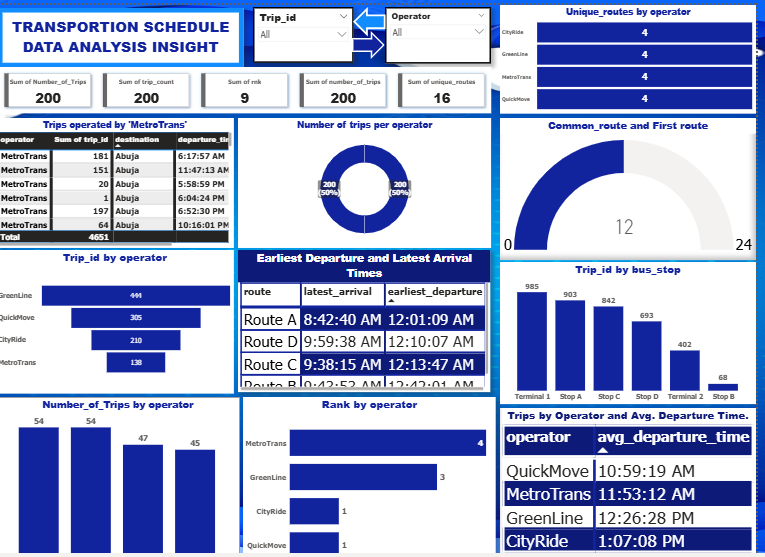

The page's visual inventory and layout, read from the dashboard file:
{"tool":"powerbi","page":{"name":"Page 1","canvas":[2000,1500],"ordinal":0},"visuals":[{"type":"tableEx","title":"Trips operated by ''MetroTrans''","fields":{"Values":["TS 1.operator","Sum(TS 1.trip_id)","TS 1.destination","TS 1.departure_time","TS 1.origin"]},"box":[0,298,626,342],"z":0},{"type":"columnChart","title":" Number_of_Trips by operator","fields":{"Category":["TS 2.operator"],"Y":["Sum(TS 2.Number_of_Trips)"]},"box":[0,1030.9,640.9,469.1],"z":1000},{"type":"gauge","title":" Common_route and First route","fields":{"Y":["Sum(TS 3.common_route)"]},"box":[1325.5,297.3,673.6,373.6],"z":2000},{"type":"funnel","title":" Trip_id by operator","fields":{"Category":["TS 4.operator"],"Y":["Sum(TS 4.trip_id)"]},"box":[0,644,626,378],"z":3000},{"type":"tableEx","title":"Earliest Departure and Latest Arrival Times","fields":{"Values":["TS 5.route","TS 5.latest_arrival","TS 5.earliest_departure"]},"box":[636,644,664,374],"z":4000},{"type":"donutChart","title":"  Number of trips per operator","fields":{"Category":["TS 6.trip_day.Variation.Date Hierarchy.Year","TS 6.trip_day.Variation.Date Hierarchy.Quarter","TS 6.trip_day.Variation.Date Hierarchy.Month","TS 6.trip_day.Variation.Date Hierarchy.Day","TS 2.operator"],"Y":["Sum(TS 6.trip_count)","Sum(TS 2.Number_of_Trips)"]},"box":[636,298,666,342],"z":5000},{"type":"tableEx","title":"Trips by Operator and Avg. Departure Time.","fields":{"Values":["TS 7.operator","TS 7.avg_departure_time"]},"box":[1326,1060,674,440],"z":6000},{"type":"clusteredBarChart","title":"Rank by operator","fields":{"Category":["TS 8.operator"],"Y":["Sum(TS 8.rnk)"]},"box":[649.1,1030.9,665.5,469.1],"z":7000},{"type":"columnChart","title":" Trip_id by bus_stop","fields":{"Category":["TS 9.bus_stop"],"Y":["Sum(TS 9.trip_id)"]},"box":[1325.5,676.4,673.6,373.6],"z":8000},{"type":"funnel","title":" Unique_routes by operator","fields":{"Category":["TS 10.operator"],"Y":["Sum(TS 10.unique_routes)"]},"box":[1325.5,0,673.6,286.4],"z":9000},{"type":"textbox","box":[4,8,646,156],"z":10000},{"type":"slicer","fields":{"Values":["TS 1.trip_id"]},"box":[676.4,4.2,265.3,147.2],"z":11000},{"type":"slicer","fields":{"Values":["TS 10.operator"]},"box":[1023.6,5.6,279.2,148.6],"z":12000},{"type":"cardVisual","fields":{"Data":["Sum(TS 2.Number_of_Trips)","Sum(TS 6.trip_count)","Sum(TS 8.rnk)","Sum(TS 8.number_of_trips)","Sum(TS 10.unique_routes)"]},"box":[4,164,1298,122],"z":13000},{"type":"shape","box":[938.9,4.2,86.1,77.8],"z":14000},{"type":"shape","box":[937.5,69.4,86.1,73.6],"z":15000}]}

Visuals, with their boxes in screenshot pixels (x1, y1, x2, y2):
"Trips operated by ''MetroTrans''" tableEx: detection(0, 115, 232, 245)
" Number_of_Trips by operator" columnChart: detection(0, 394, 238, 556)
" Common_route and First route" gauge: detection(498, 115, 754, 257)
" Trip_id by operator" funnel: detection(0, 247, 232, 391)
"Earliest Departure and Latest Arrival Times" tableEx: detection(236, 247, 488, 389)
"  Number of trips per operator" donutChart: detection(236, 115, 489, 245)
"Trips by Operator and Avg. Departure Time." tableEx: detection(498, 405, 754, 556)
"Rank by operator" clusteredBarChart: detection(241, 394, 494, 556)
" Trip_id by bus_stop" columnChart: detection(498, 259, 754, 401)
" Unique_routes by operator" funnel: detection(498, 2, 754, 111)
textbox: detection(0, 5, 241, 64)
slicer - TS 1.trip_id: detection(251, 4, 352, 60)
slicer - TS 10.operator: detection(383, 4, 489, 61)
cardVisual - Sum(TS 2.Number_of_Trips) x Sum(TS 6.trip_count): detection(0, 64, 489, 111)
shape: detection(351, 4, 384, 33)
shape: detection(350, 28, 383, 56)
